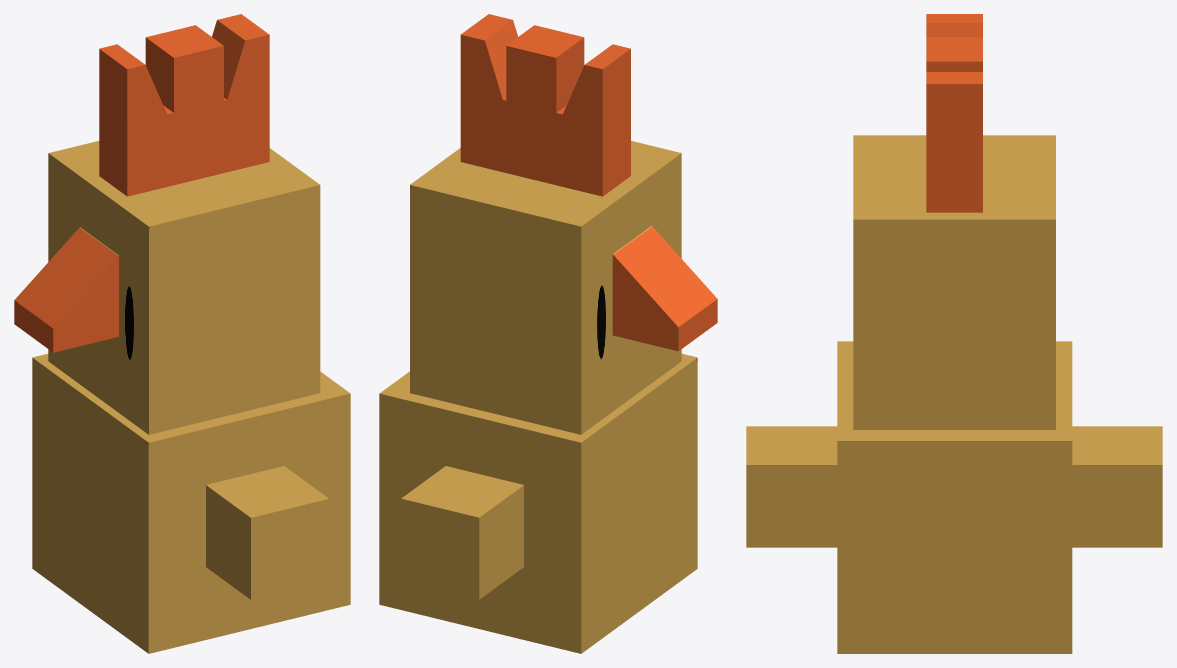
File: MaxExportedFBXFile.fbx
3 views of the same model, side by side, from view 1: azimuth 30°, elevation 25°; view 2: azimuth 150°, elevation 25°; view 3: azimuth 270°, elevation 25° (orthographic).
Visible parts, largest first — view 1: Yellow_chicken; view 2: Yellow_chicken; view 3: Yellow_chicken.
Boxes of the visible parts, <box> form: Yellow_chicken: <box>14,14,350,653</box>; Yellow_chicken: <box>379,14,717,653</box>; Yellow_chicken: <box>746,14,1162,653</box>.
Size of the model in its own units: 30.28 by 60.99 by 41.69.
